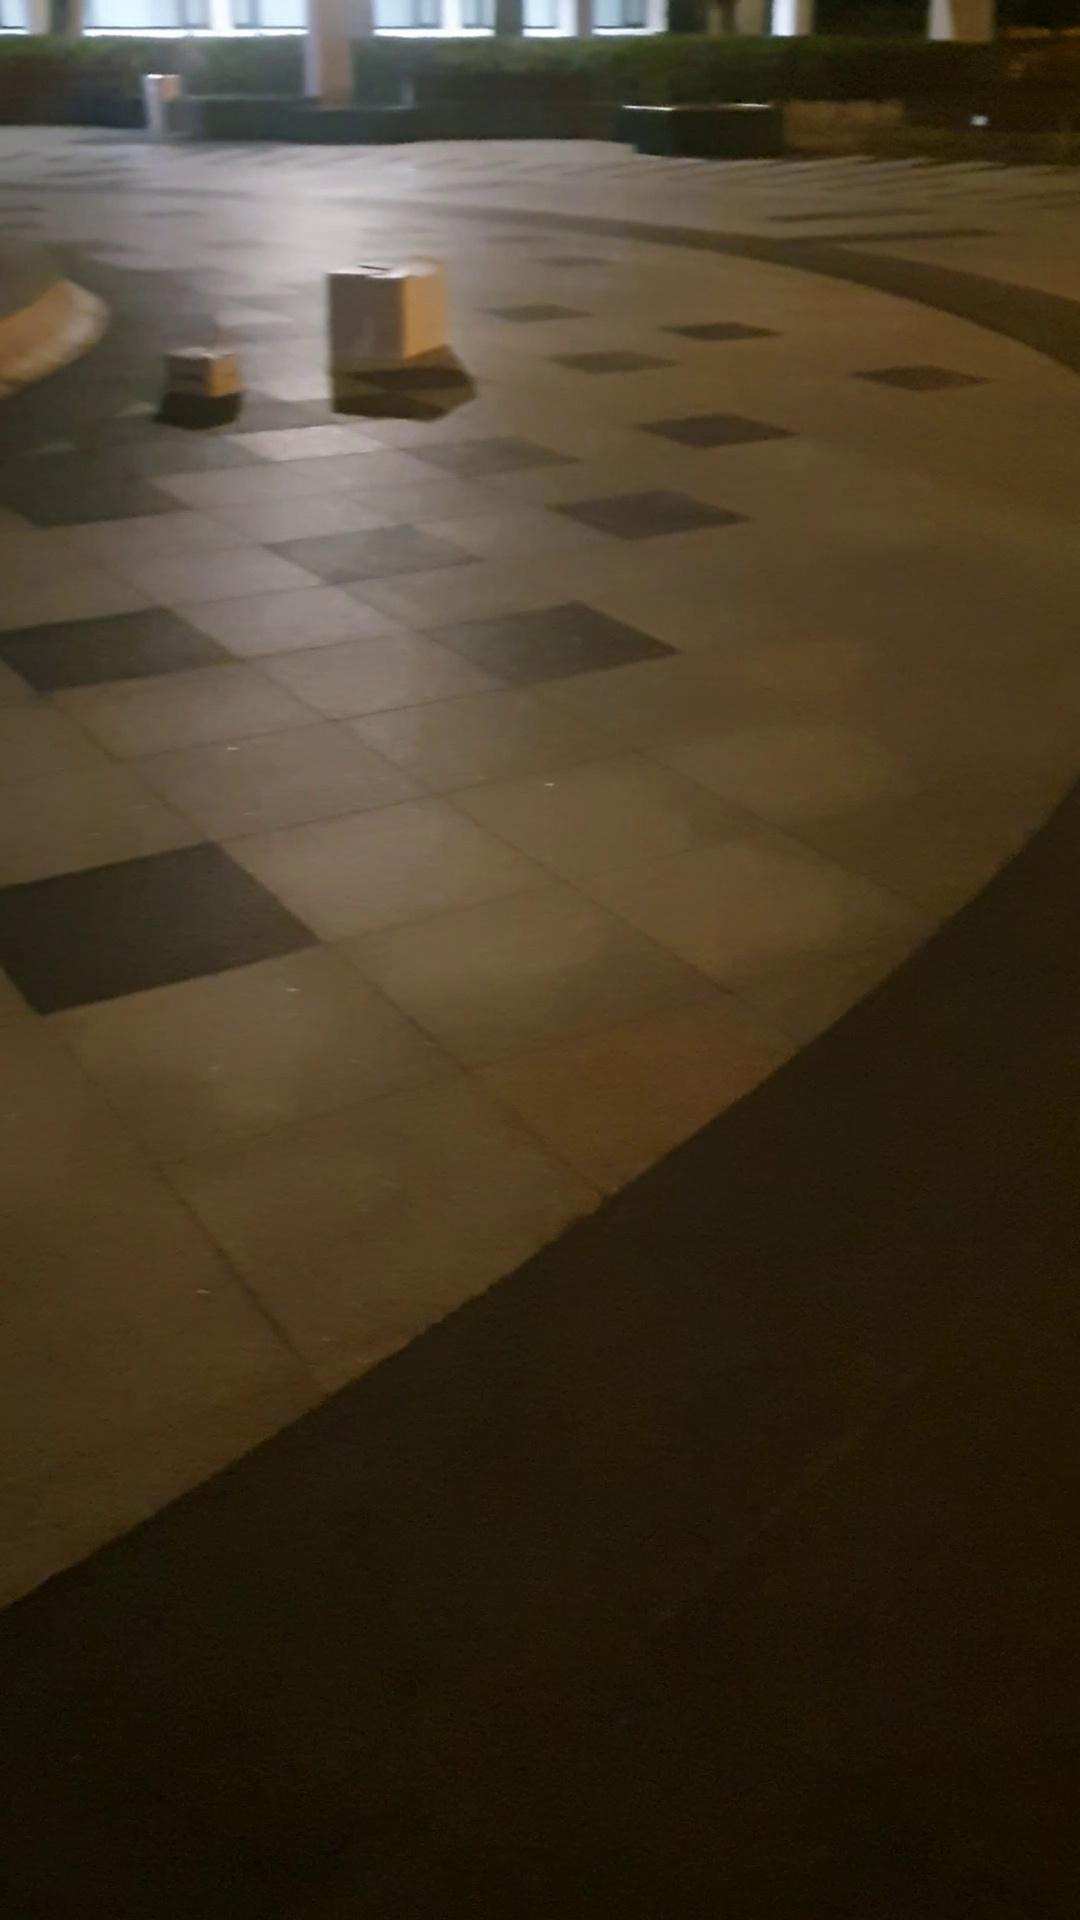Box: (313, 253, 455, 382), (161, 328, 253, 410)
